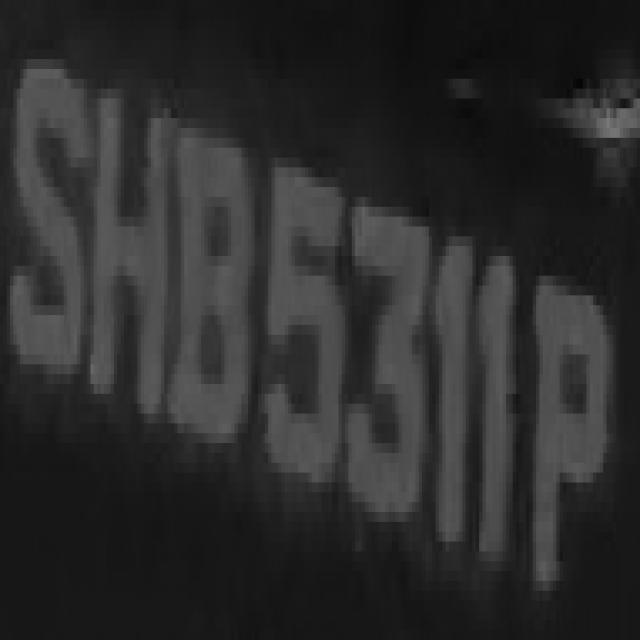1: (472, 227, 520, 600), (429, 177, 466, 581)
3: (352, 128, 419, 561)
5: (261, 118, 345, 502)
B: (168, 108, 252, 453)
H: (80, 49, 168, 423)
P: (523, 227, 603, 600)
S: (10, 49, 94, 394)
